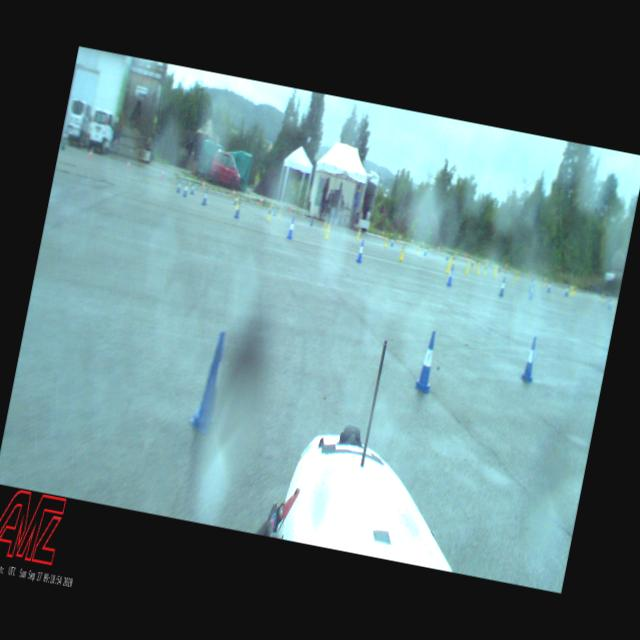blue_cone: (187, 328, 236, 438), (413, 328, 442, 394), (519, 336, 542, 384), (355, 238, 367, 264), (232, 198, 244, 220), (286, 217, 296, 240), (200, 184, 210, 207), (446, 264, 456, 286), (498, 276, 507, 298), (182, 178, 190, 198), (528, 282, 536, 300), (176, 176, 183, 195), (546, 278, 554, 293), (607, 296, 614, 311), (190, 181, 197, 195), (272, 204, 278, 218), (310, 214, 316, 227), (497, 262, 503, 274), (564, 285, 570, 296), (389, 237, 395, 248), (422, 245, 428, 256), (234, 193, 238, 206), (445, 250, 450, 260)
orange_cone: (88, 146, 94, 160), (200, 178, 207, 190), (126, 157, 132, 170), (160, 167, 166, 180), (231, 186, 237, 198), (258, 196, 264, 206), (382, 228, 386, 238), (437, 244, 441, 252), (398, 234, 402, 241), (410, 236, 414, 243)
yellow_cone: (266, 201, 274, 222), (398, 243, 406, 263), (463, 258, 471, 276), (324, 223, 332, 240), (492, 261, 500, 277), (475, 260, 482, 276), (482, 261, 490, 275), (446, 257, 452, 273), (234, 195, 240, 209), (322, 218, 328, 232), (451, 252, 457, 266), (514, 268, 520, 282), (277, 206, 283, 219), (356, 228, 362, 241), (414, 244, 420, 256), (383, 236, 389, 247), (569, 285, 574, 296), (572, 284, 576, 294)
